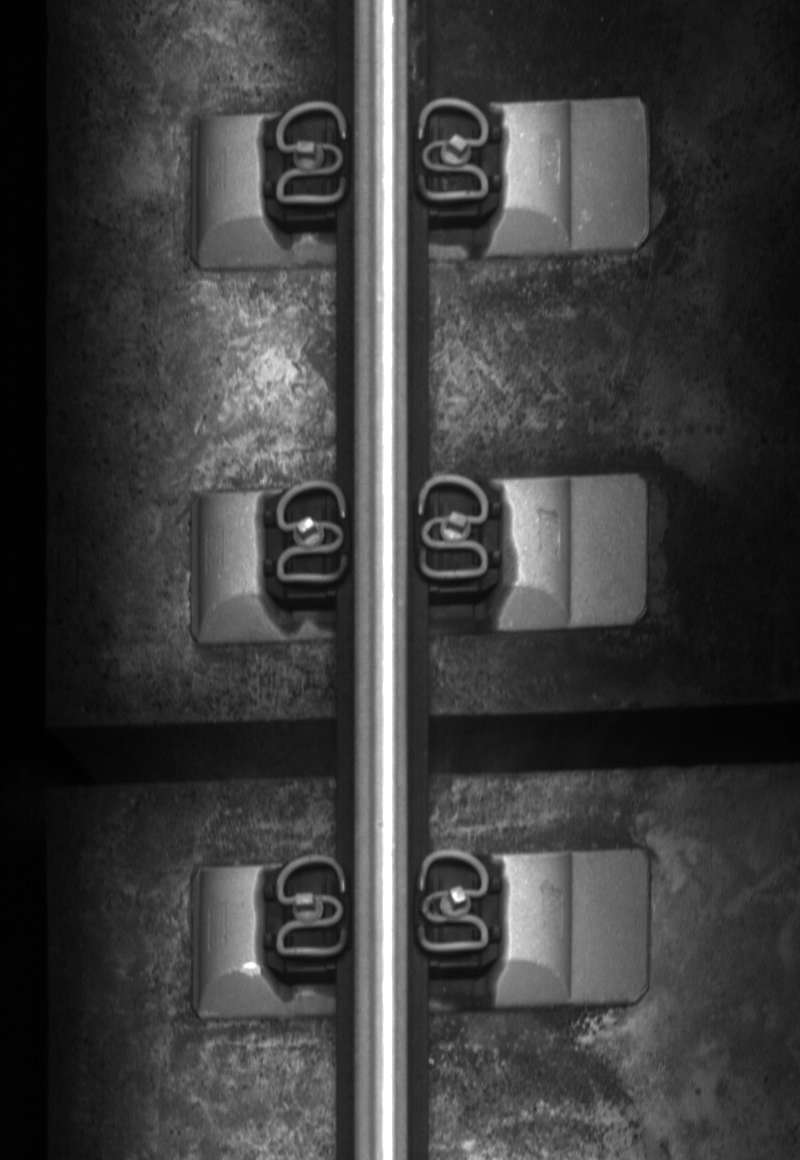l_faster: (268, 849, 352, 964), (269, 95, 352, 209), (273, 478, 352, 587)
r_faster: (410, 91, 496, 207), (412, 842, 496, 958), (413, 471, 492, 585)
